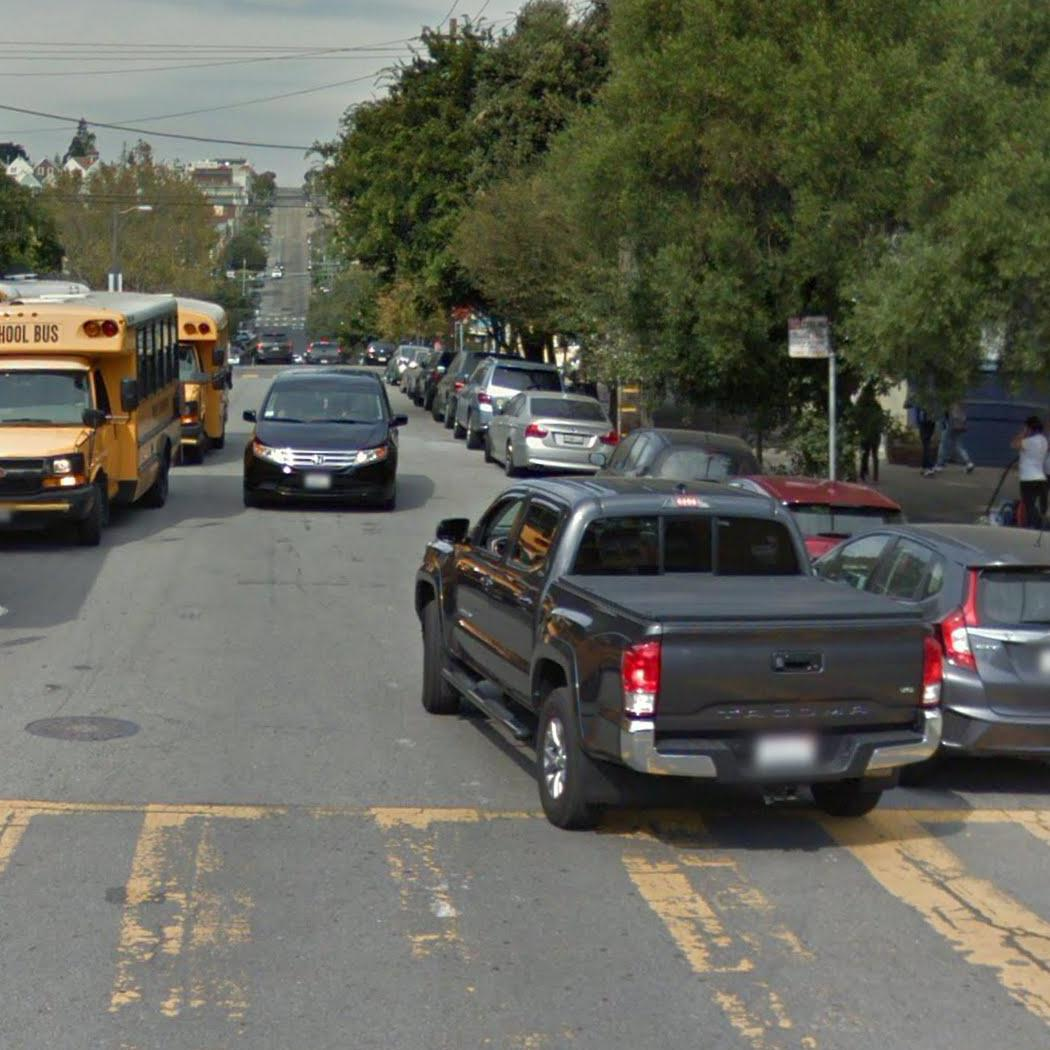No Parking: (786, 314, 833, 361)
